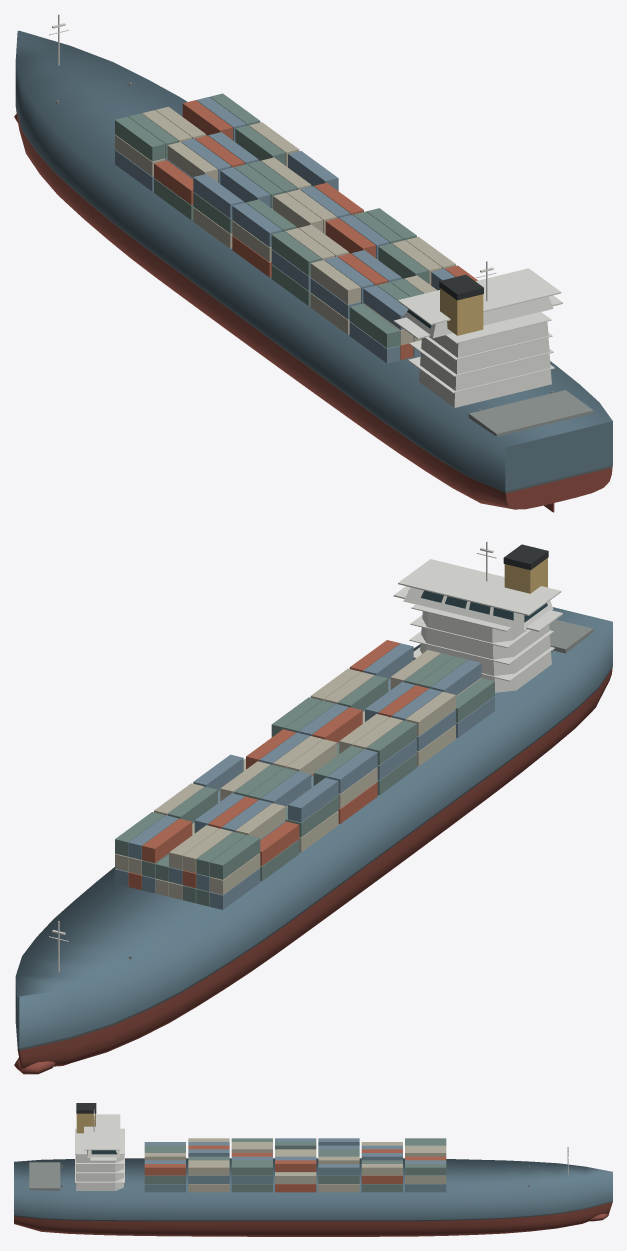
The model's file is cargo-low.glb.
3 views of the same model, one above another, from view 1: azimuth 30°, elevation 25°; view 2: azimuth 150°, elevation 25°; view 3: azimuth 270°, elevation 25° (orthographic). The views are drawn at different scales.
Visible parts, largest first — view 1: hull, white, bottom, blue, green, sand, red, deck, ochre, stripe, black; view 2: hull, blue, green, bottom, white, sand, red, stripe, ochre, deck, window, black; view 3: hull, bottom, sand, blue, green, white, red, stripe, deck, ochre, black.
Boxes of the visible parts, left/top/right/bottom form: hull: left=15, top=30, right=612, bottom=491; white: left=49, top=14, right=562, bottom=407; bottom: left=14, top=111, right=612, bottom=512; blue: left=115, top=97, right=454, bottom=363; green: left=115, top=93, right=428, bottom=348; sand: left=115, top=107, right=455, bottom=344; red: left=154, top=100, right=477, bottom=359; deck: left=468, top=390, right=593, bottom=436; ochre: left=440, top=288, right=483, bottom=335; stripe: left=16, top=108, right=612, bottom=493; black: left=439, top=274, right=483, bottom=300; hull: left=15, top=607, right=612, bottom=1048; blue: left=115, top=643, right=494, bottom=909; green: left=115, top=653, right=494, bottom=906; bottom: left=14, top=668, right=612, bottom=1074; white: left=49, top=541, right=562, bottom=972; sand: left=115, top=650, right=481, bottom=899; red: left=128, top=640, right=428, bottom=889; stripe: left=17, top=666, right=612, bottom=1050; ochre: left=504, top=558, right=547, bottom=593; deck: left=549, top=619, right=593, bottom=653; window: left=421, top=590, right=547, bottom=622; black: left=503, top=544, right=548, bottom=570; hull: left=14, top=1158, right=612, bottom=1220; bottom: left=14, top=1202, right=612, bottom=1236; sand: left=144, top=1138, right=446, bottom=1192; blue: left=144, top=1138, right=446, bottom=1192; green: left=144, top=1138, right=446, bottom=1192; white: left=75, top=1109, right=568, bottom=1190; red: left=144, top=1145, right=446, bottom=1192; stripe: left=14, top=1201, right=612, bottom=1221; deck: left=29, top=1162, right=60, bottom=1190; ochre: left=76, top=1113, right=95, bottom=1133; black: left=76, top=1103, right=96, bottom=1113.
Size of the model in its own units: 27 by 36.5 by 174.
